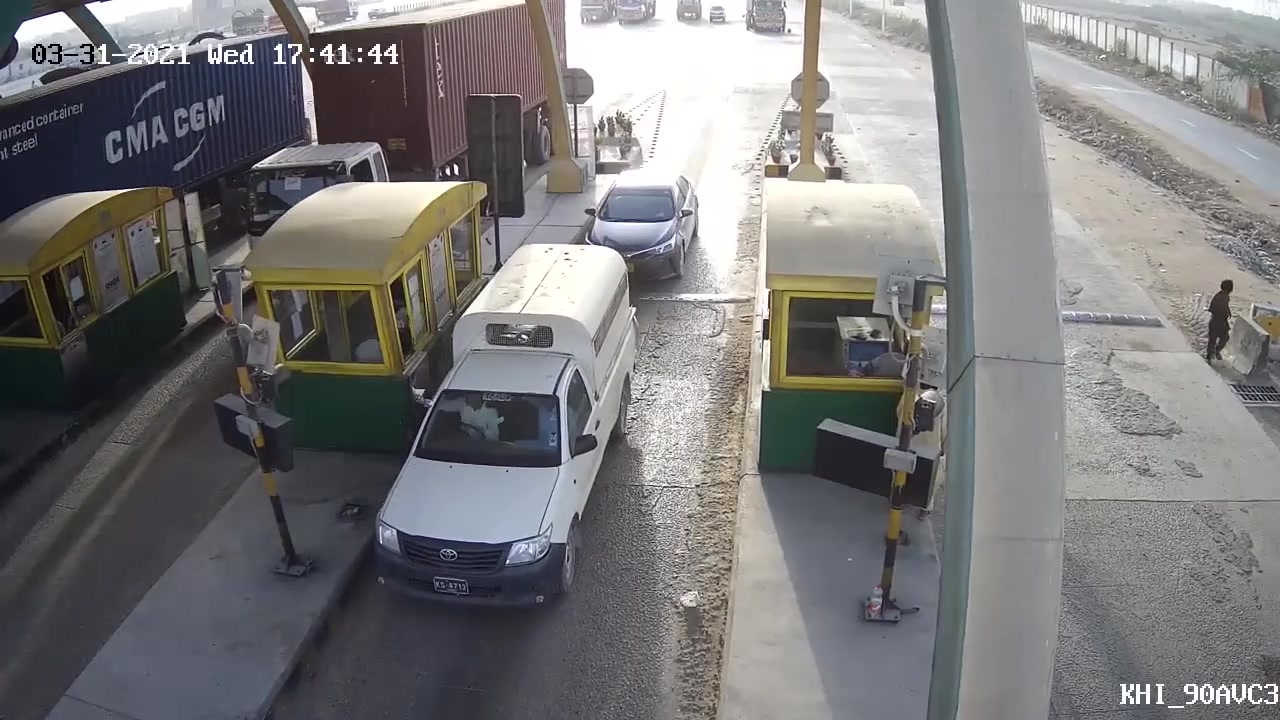F1: (374, 244, 644, 622), (583, 164, 699, 282)
